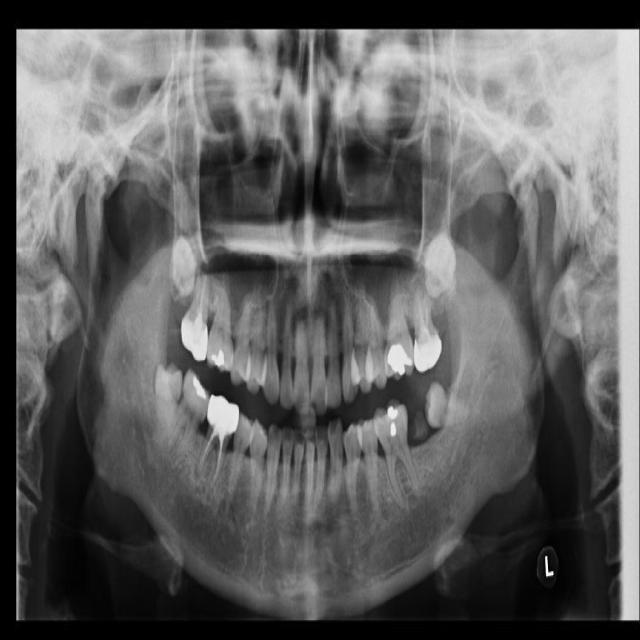3M ESPE Implant: (165, 224, 204, 297)
52: (169, 365, 222, 423), (372, 396, 409, 454), (205, 392, 242, 435), (180, 311, 210, 362), (410, 330, 443, 376), (204, 327, 235, 374), (383, 334, 414, 381)
73: (185, 419, 236, 490), (404, 279, 441, 342), (184, 252, 211, 326), (597, 575, 605, 584)
BioHorizons Implant: (408, 277, 443, 373)
BioLife Implant: (424, 235, 456, 297)
Biomet 3i Implant: (420, 376, 473, 430)
Caries: (179, 252, 212, 363)
Implant: (160, 365, 220, 467)
Keystone Dental Implant: (154, 360, 182, 449)
